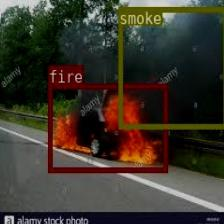fire: (47, 84, 167, 172)
smoke: (117, 6, 224, 128)
